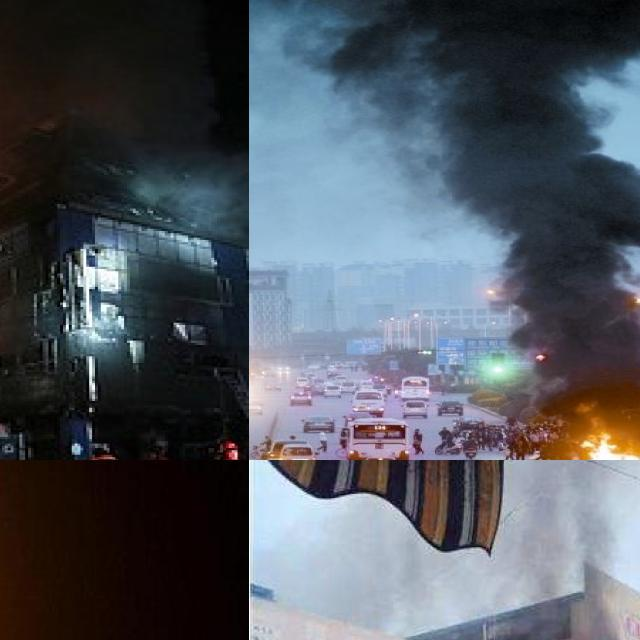fire: (583, 432, 640, 460)
smoke: (249, 0, 640, 421), (504, 460, 640, 640)
